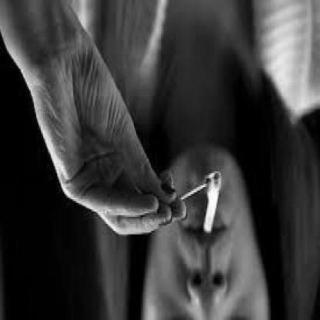Fire: (203, 162, 233, 210)
